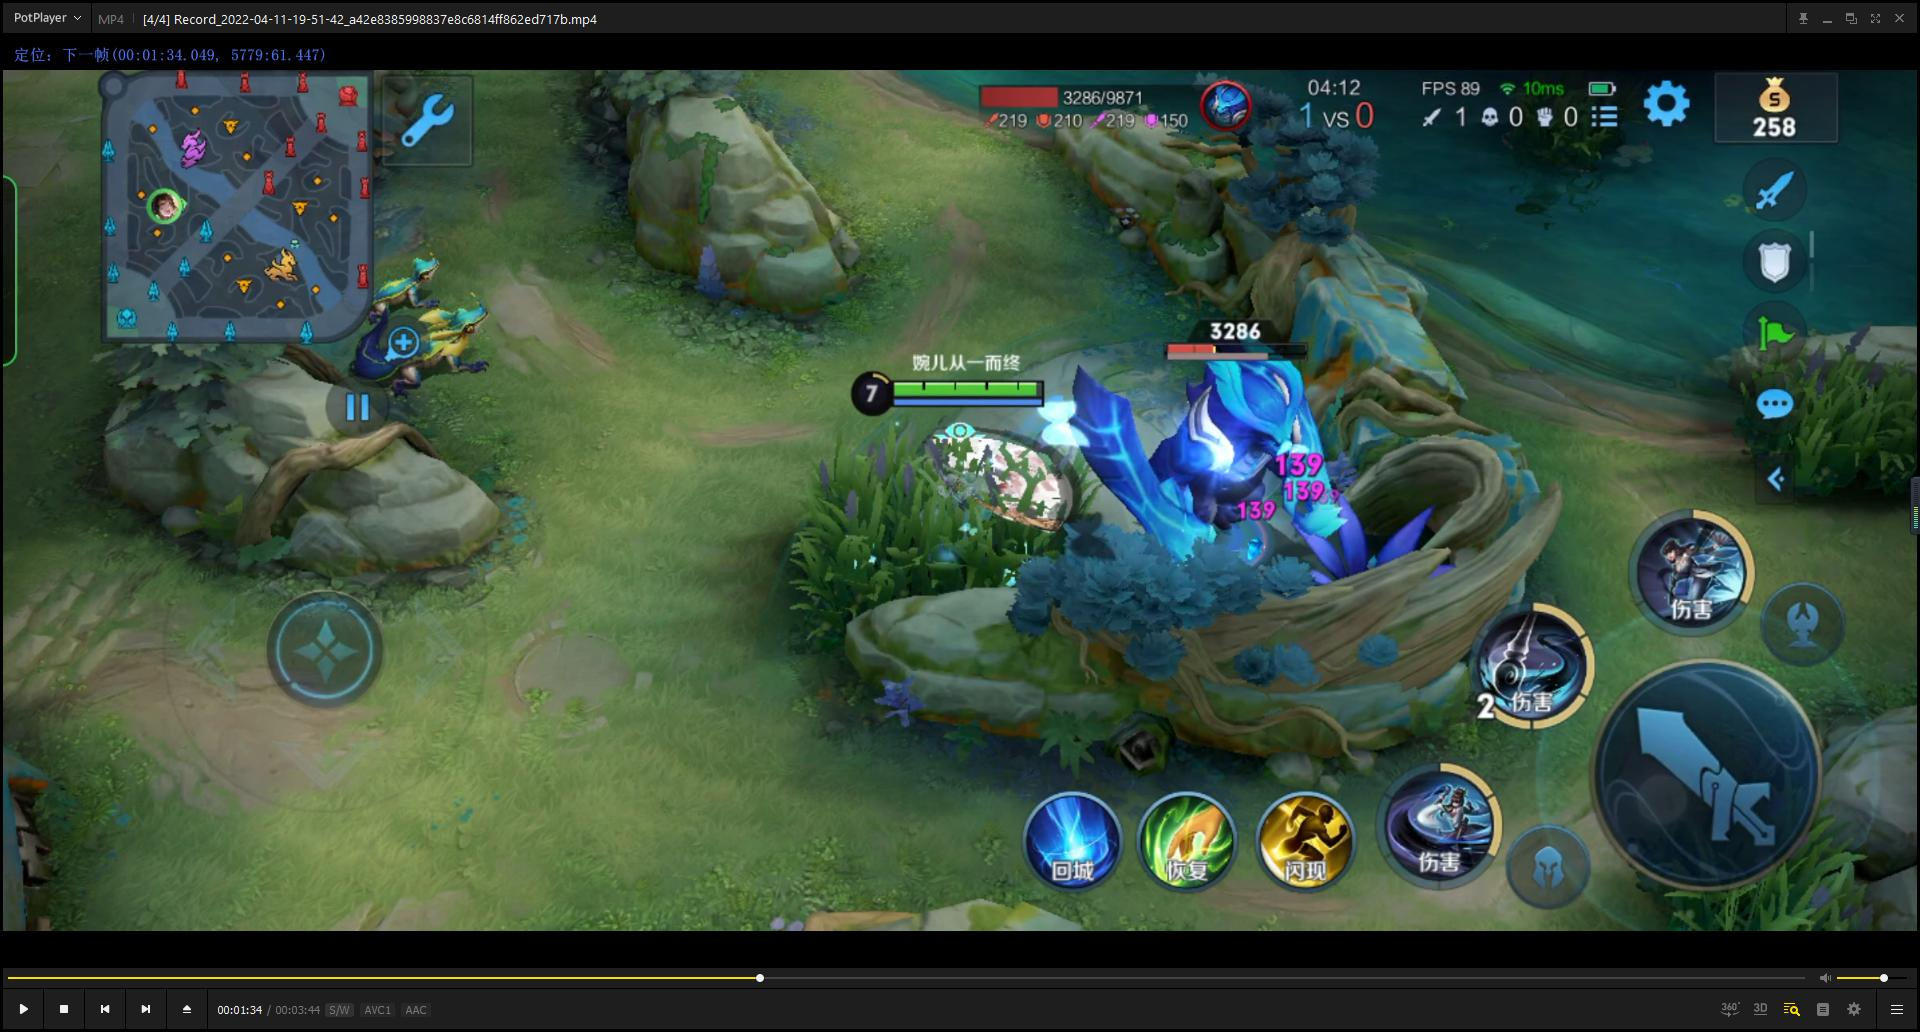Buff: (1006, 291, 1376, 608)
Hero: (865, 427, 1108, 577)
Lizard: (330, 296, 499, 393), (353, 244, 463, 327)
